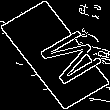M_SW: (16, 22, 94, 88)
